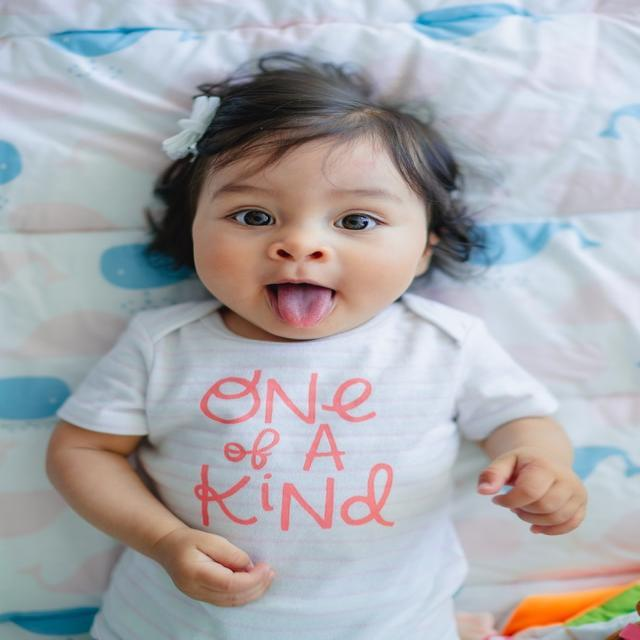non-dog: (41, 60, 590, 639)
